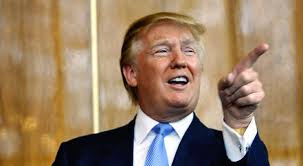hand: (212, 37, 279, 123)
